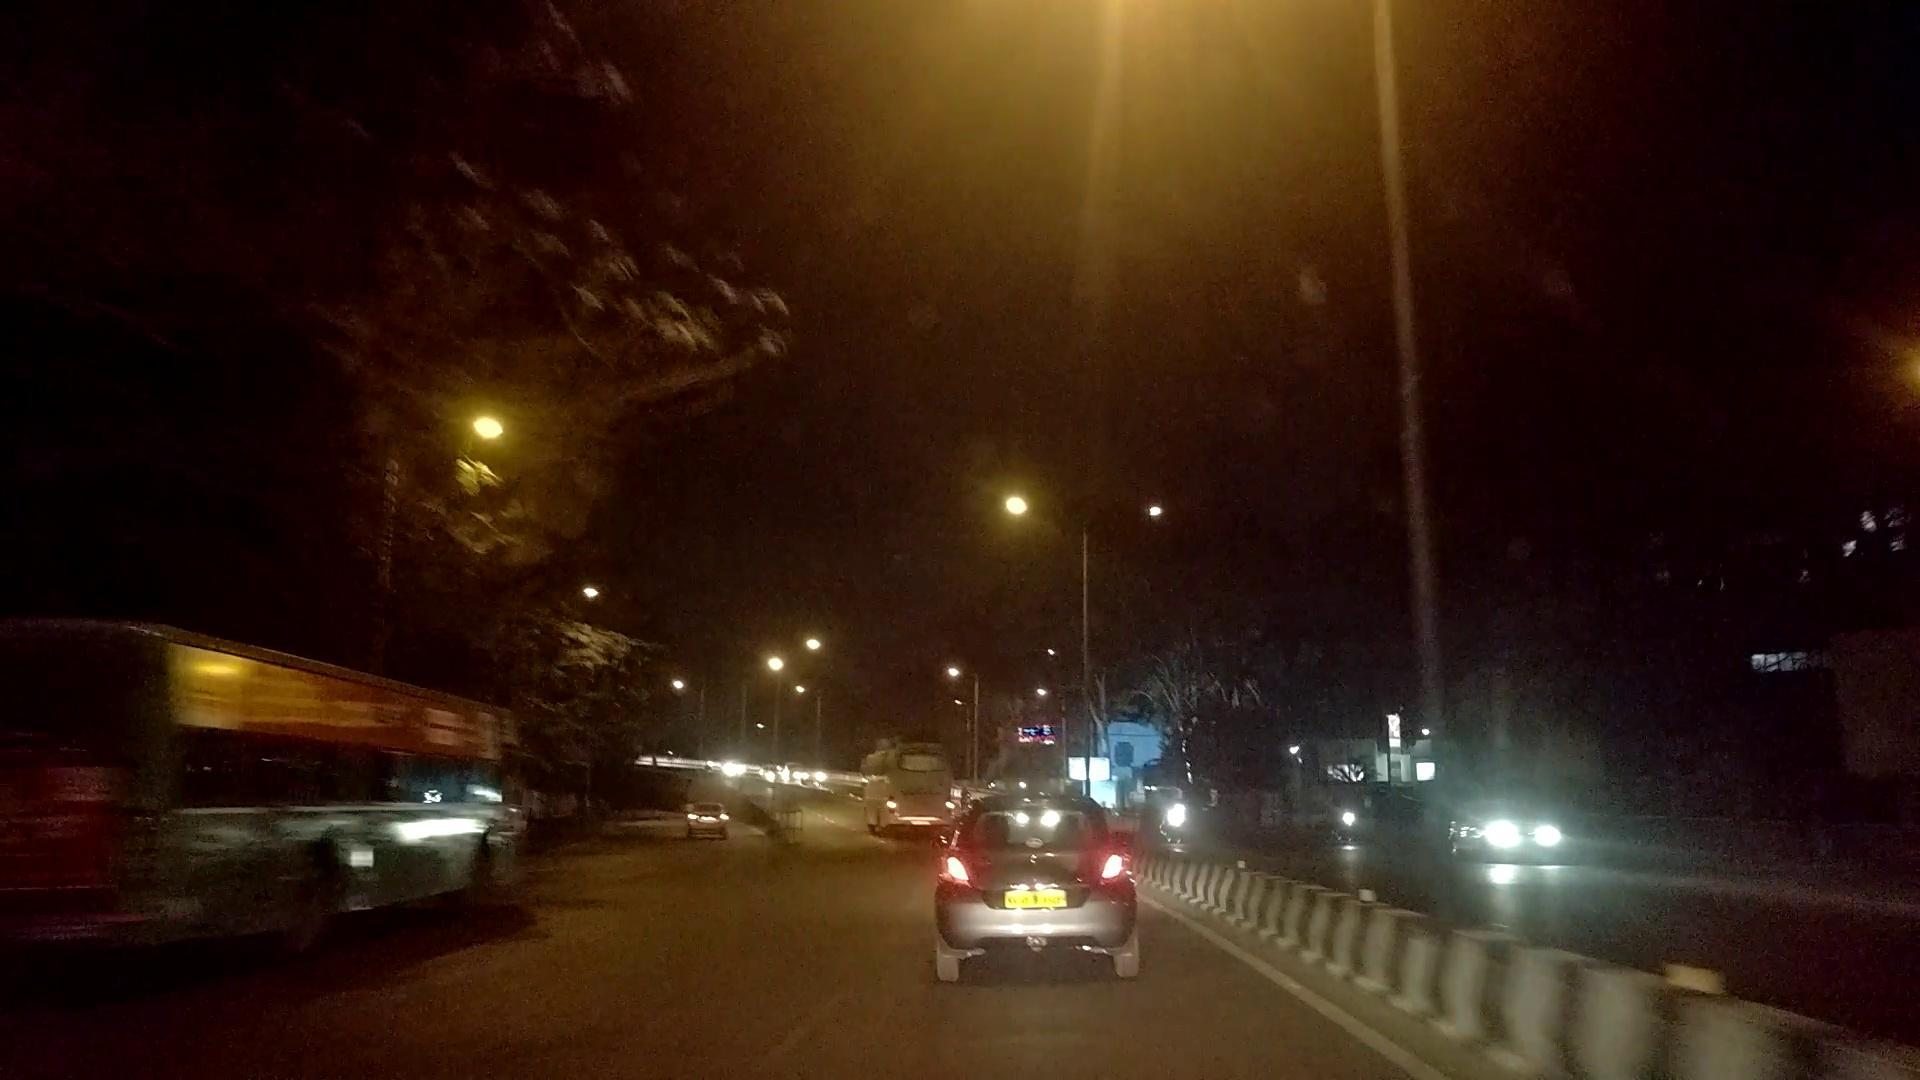on: (840, 291, 1295, 595), (430, 291, 591, 587)
